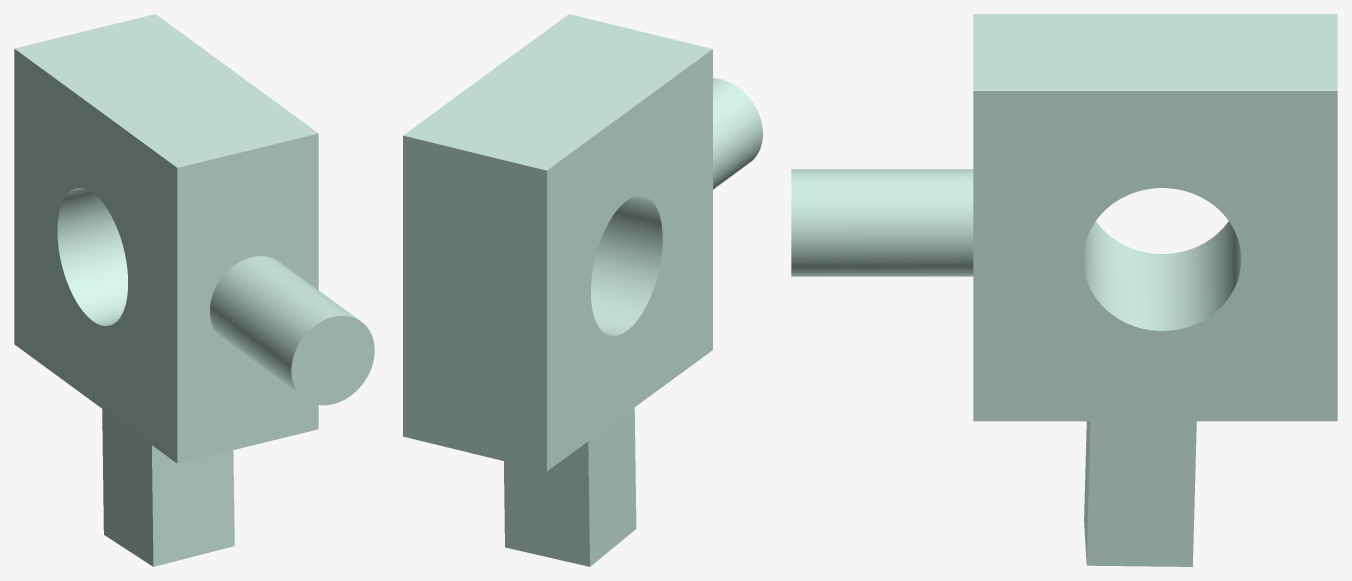
3 views of the same model, side by side, from view 1: azimuth 30°, elevation 25°; view 2: azimuth 150°, elevation 25°; view 3: azimuth 270°, elevation 25° (orthographic). The views are drawn at different scales.
Visible parts, largest first — view 1: Renderer Node; view 2: Renderer Node; view 3: Renderer Node.
Part boxes in pixels (x1,y1,x2,y2): Renderer Node: (14, 14, 374, 566); Renderer Node: (403, 14, 762, 566); Renderer Node: (791, 14, 1337, 566).
Size of the model in its own units: 0.375 by 1.12 by 1.13.
